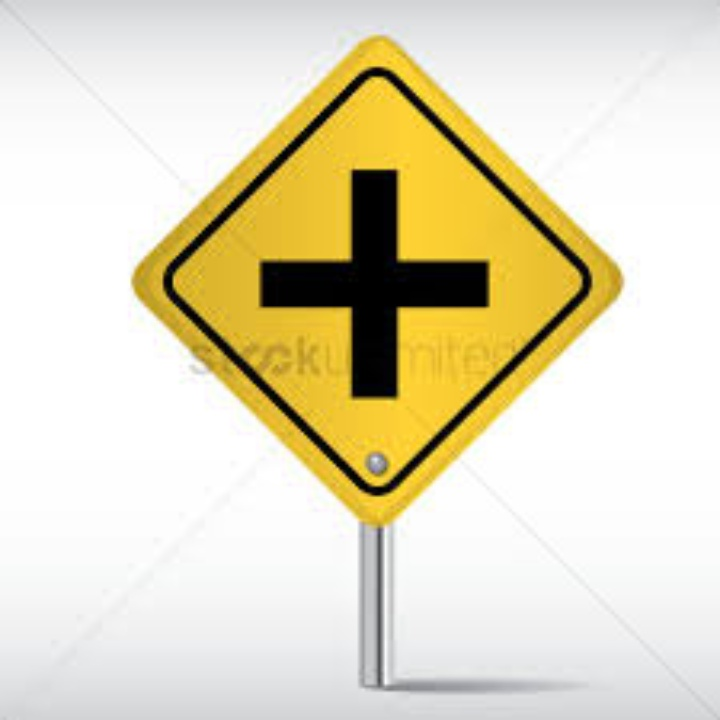inter: (246, 163, 497, 405)
